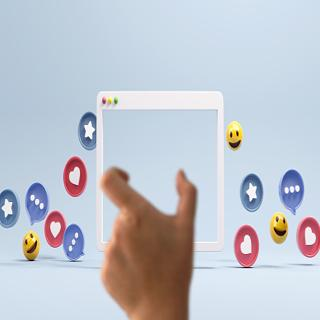HATE: (95, 166, 205, 316)
